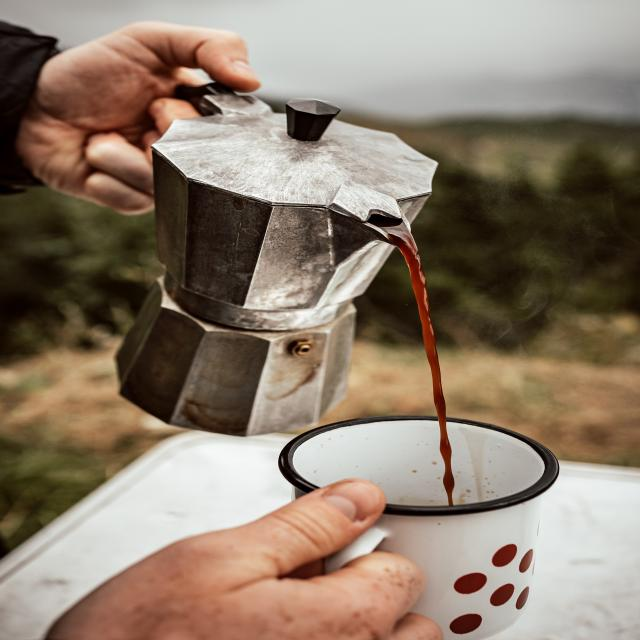cup: (278, 414, 584, 632)
jug: (140, 84, 474, 494)
